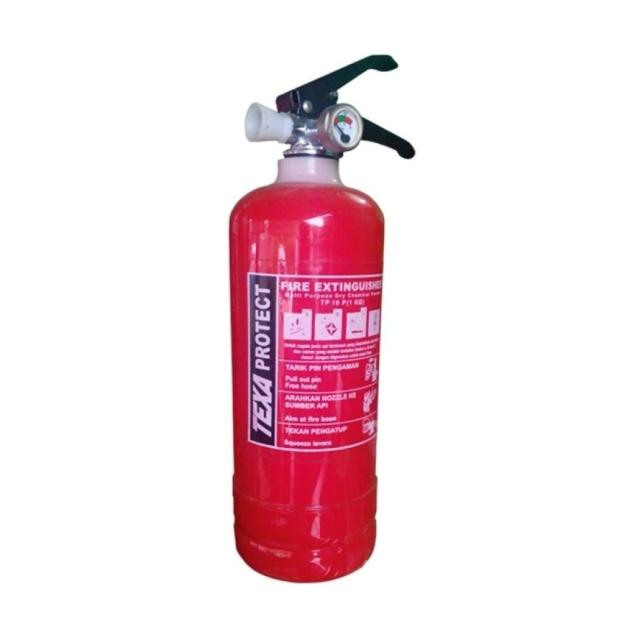fire_extinguisher: (220, 50, 418, 588)
